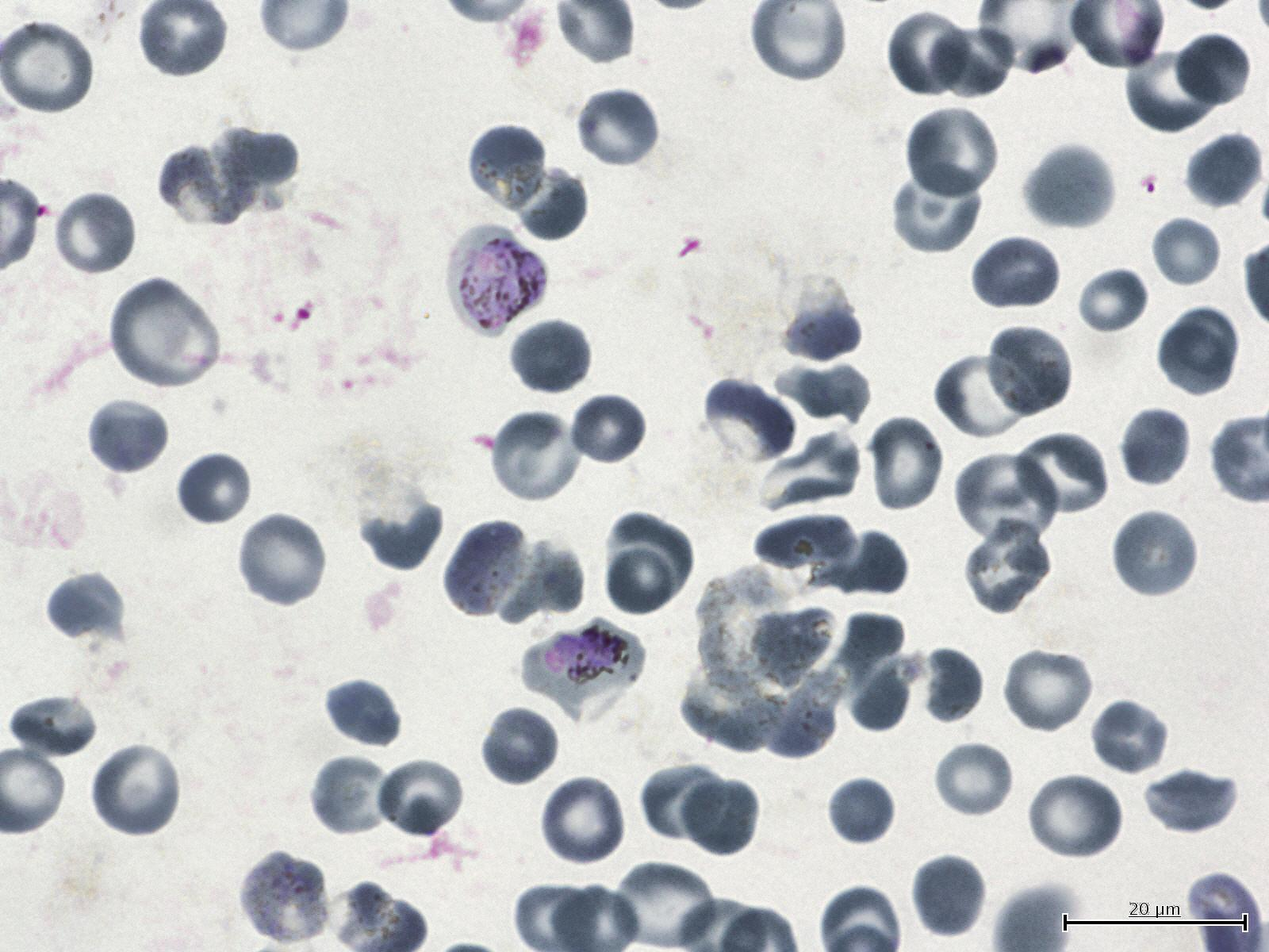Infected: (448, 223, 549, 336), (518, 618, 647, 703)
Uninfected: (107, 281, 215, 388), (957, 450, 1060, 550), (0, 24, 99, 119), (677, 666, 782, 755), (90, 742, 184, 839), (961, 516, 1052, 616), (617, 859, 717, 950), (904, 107, 1000, 201), (934, 349, 1032, 441), (489, 408, 582, 504), (700, 375, 798, 466), (236, 512, 327, 608), (1026, 772, 1123, 861), (983, 321, 1072, 418), (1013, 430, 1110, 519), (159, 141, 257, 228), (1121, 49, 1222, 133), (889, 163, 981, 255), (539, 774, 628, 868), (1023, 142, 1115, 231), (240, 852, 329, 944), (465, 121, 550, 216), (1111, 508, 1199, 599), (1002, 647, 1094, 734), (865, 416, 945, 514), (374, 754, 466, 839), (764, 429, 861, 509), (447, 520, 527, 616), (746, 605, 835, 691), (756, 509, 857, 584), (50, 190, 137, 277), (501, 159, 588, 243), (575, 87, 660, 171), (608, 512, 692, 595), (205, 128, 302, 199), (1141, 767, 1239, 837), (307, 760, 392, 840), (86, 397, 169, 478), (479, 704, 559, 787), (6, 690, 98, 762), (765, 669, 841, 756), (680, 778, 760, 860), (508, 317, 592, 395), (911, 853, 988, 938), (1089, 697, 1170, 777), (933, 740, 1014, 820), (640, 765, 725, 841), (888, 13, 968, 93), (499, 547, 582, 624), (926, 27, 1015, 98), (1183, 132, 1264, 210), (44, 570, 126, 647), (830, 611, 907, 693), (1117, 405, 1192, 489), (176, 450, 255, 528), (321, 676, 403, 749), (974, 237, 1058, 307), (568, 391, 646, 466), (1147, 215, 1225, 290), (818, 527, 907, 592), (822, 774, 897, 850), (1156, 324, 1233, 397), (358, 501, 443, 567), (776, 297, 861, 363), (776, 367, 870, 424), (1176, 30, 1247, 104), (602, 546, 676, 616), (925, 646, 983, 724), (1079, 268, 1148, 333), (850, 658, 908, 732), (1175, 309, 1238, 374)
